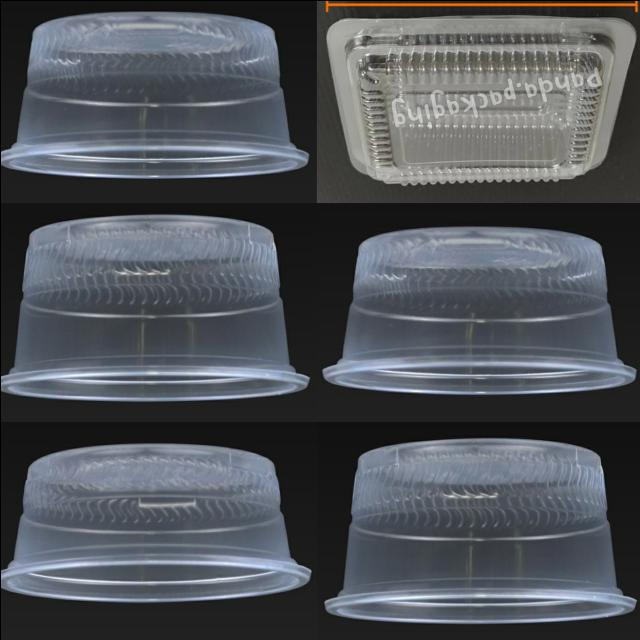plastik: (325, 437, 636, 622), (0, 214, 308, 399), (326, 16, 634, 185), (323, 227, 634, 392), (0, 11, 308, 177), (0, 443, 309, 602)
